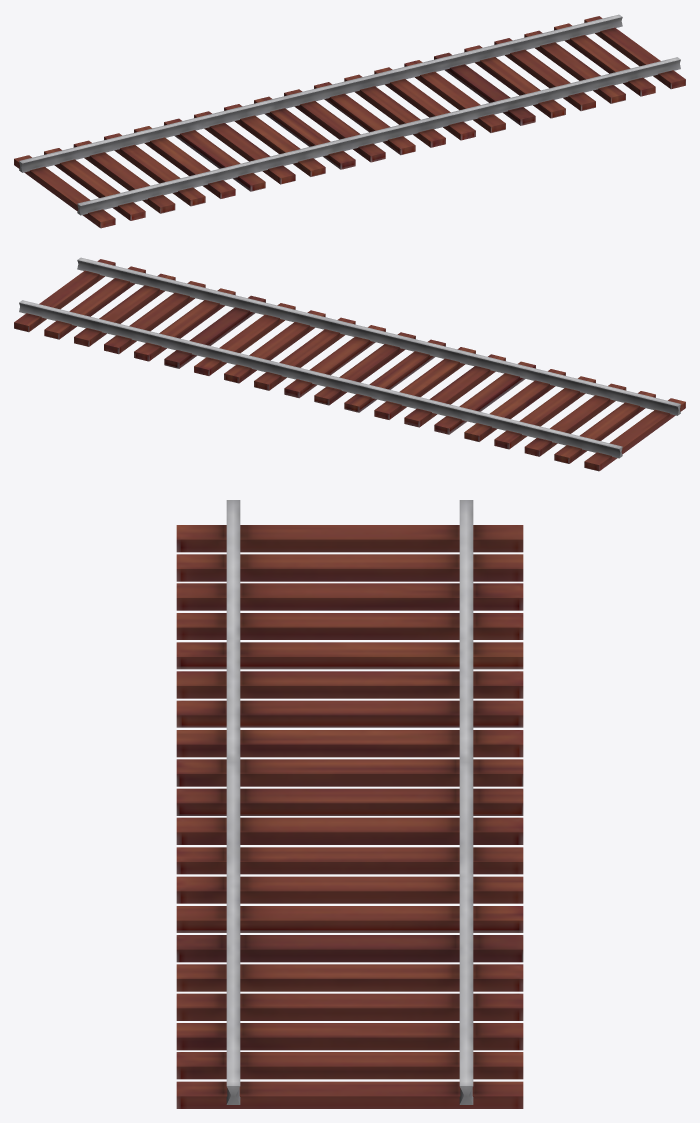
Rendered from TrainTrack_Recht.FBX.
The picture shows the model from 3 angles, top to bottom: view 1: azimuth 30°, elevation 25°; view 2: azimuth 150°, elevation 25°; view 3: azimuth 270°, elevation 25°; orthographic projection. The views are drawn at different scales.
Parts seen in each view (by area): view 1: RechtTreinspoor; view 2: RechtTreinspoor; view 3: RechtTreinspoor.
Boxes of the visible parts, x1=… form: RechtTreinspoor: x1=14, y1=14, x2=685, y2=228; RechtTreinspoor: x1=14, y1=257, x2=685, y2=471; RechtTreinspoor: x1=176, y1=500, x2=523, y2=1108.
Bounding box in the file's own units: 1000 × 23.97 × 250.
Materials: 1 (1 with a texture image).
